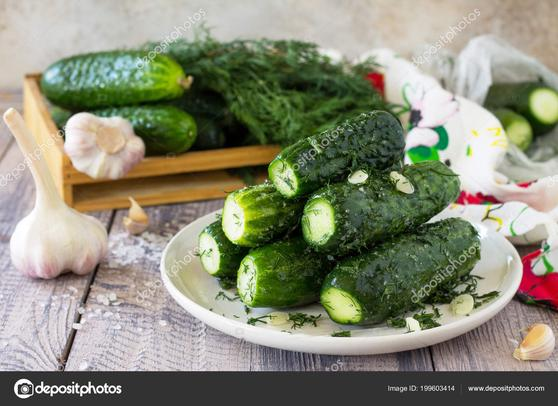cucumber: (321, 215, 487, 315), (312, 166, 460, 245), (274, 111, 403, 188), (41, 48, 189, 105)
